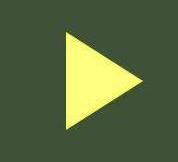ImgButton: (1, 1, 177, 161)
